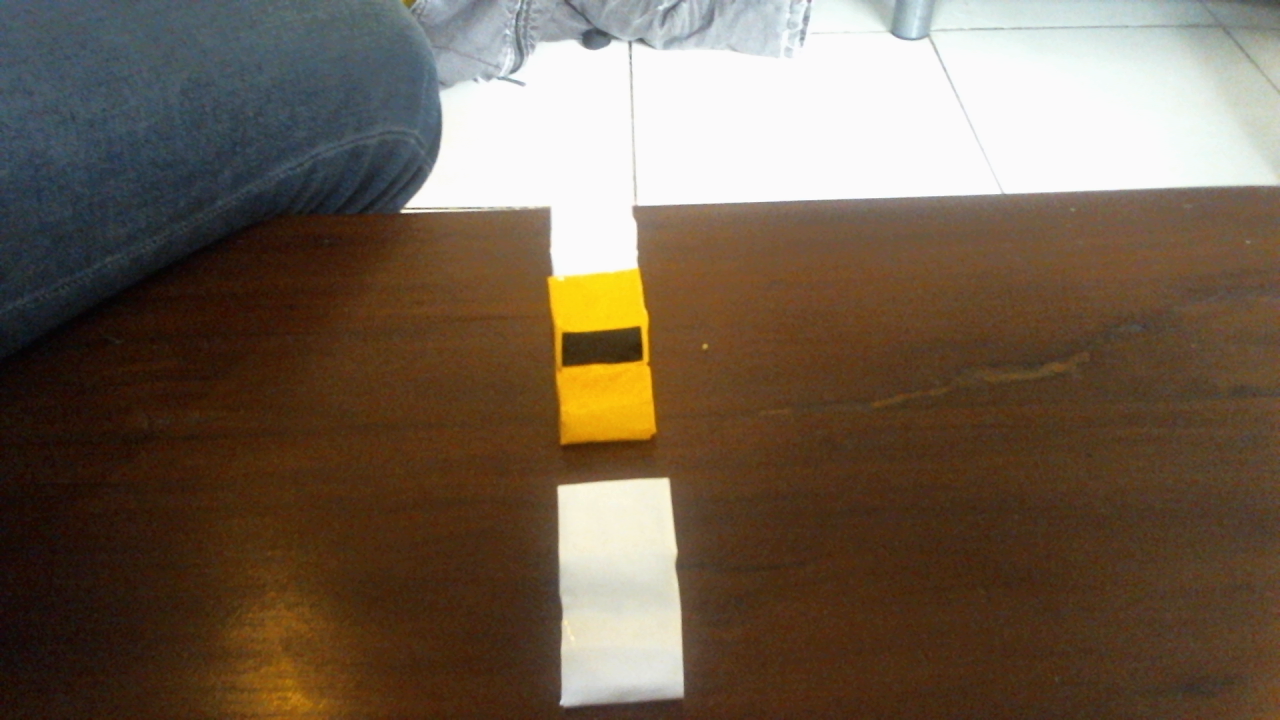Kijang Kapsul: (483, 256, 763, 465)
